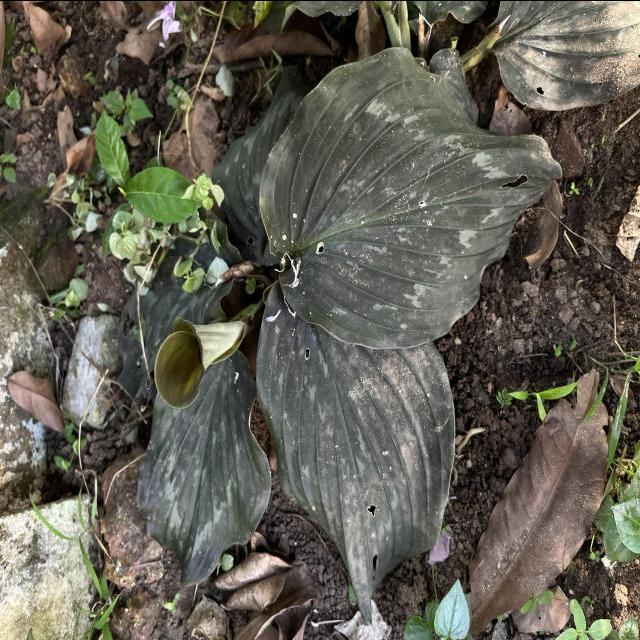Kaempferia galanga linn: (256, 43, 566, 351), (252, 276, 458, 628)
